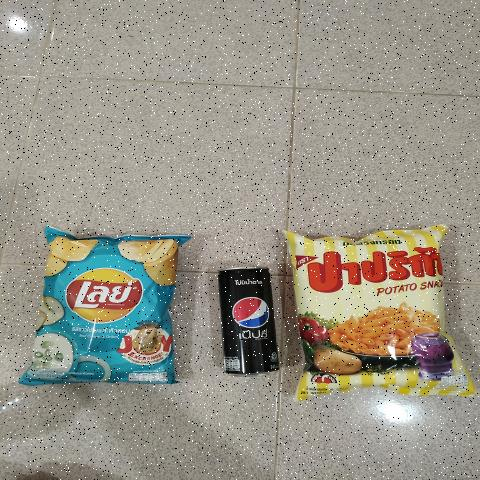lay_blue: (295, 231, 454, 393), (55, 246, 166, 376)
pepsi_black: (222, 266, 280, 366)
